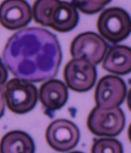N: (2, 27, 62, 81)
